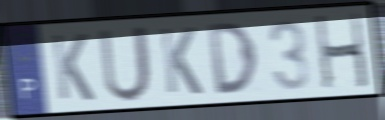3: (268, 18, 310, 92)
D: (205, 19, 261, 98)
H: (312, 10, 372, 92)
K: (49, 31, 97, 103), (158, 25, 205, 97)
U: (96, 22, 154, 105)
